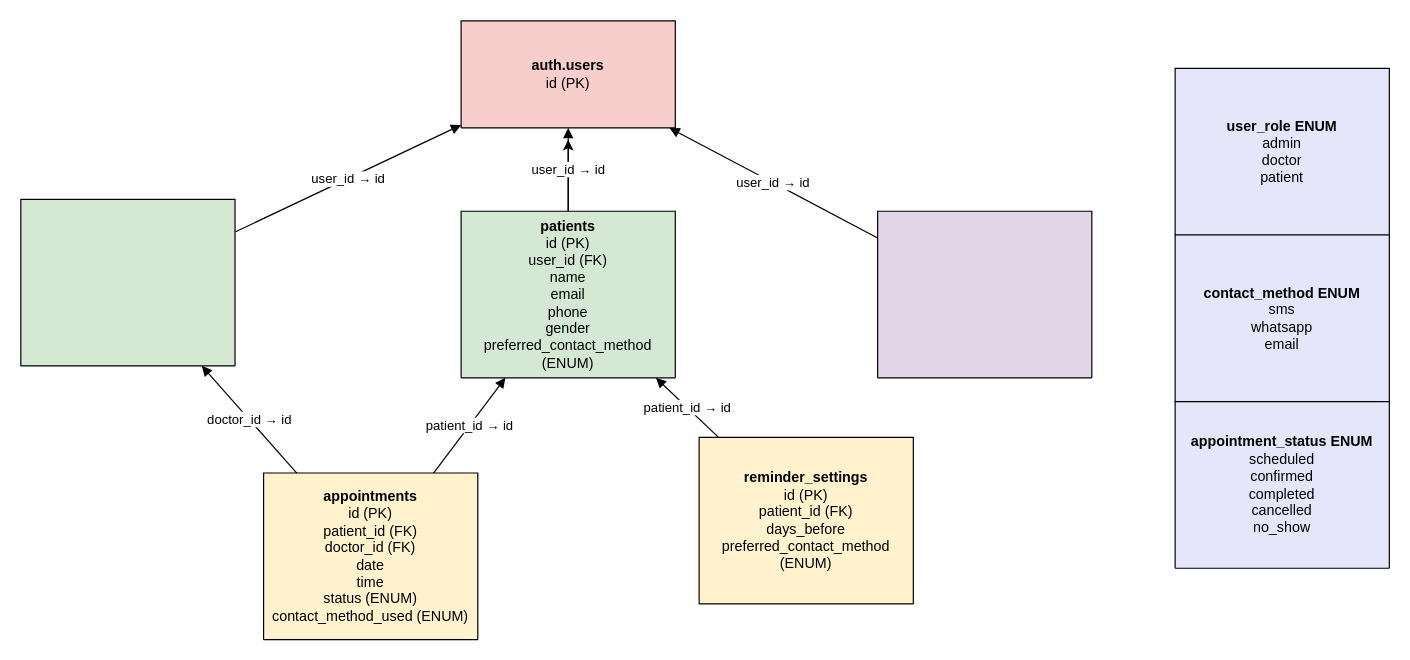
The diagram is 1410 pixels wide and 660 high, and some of its shapes have lost their labels. Here are the shapes that lost their labels. From the top down, the centre of each, then its label:
(127,282): doctors id (PK) user_id (FK) name email specialty office_location
(984,294): user_roles id (PK) user_id (FK) role (ENUM)
